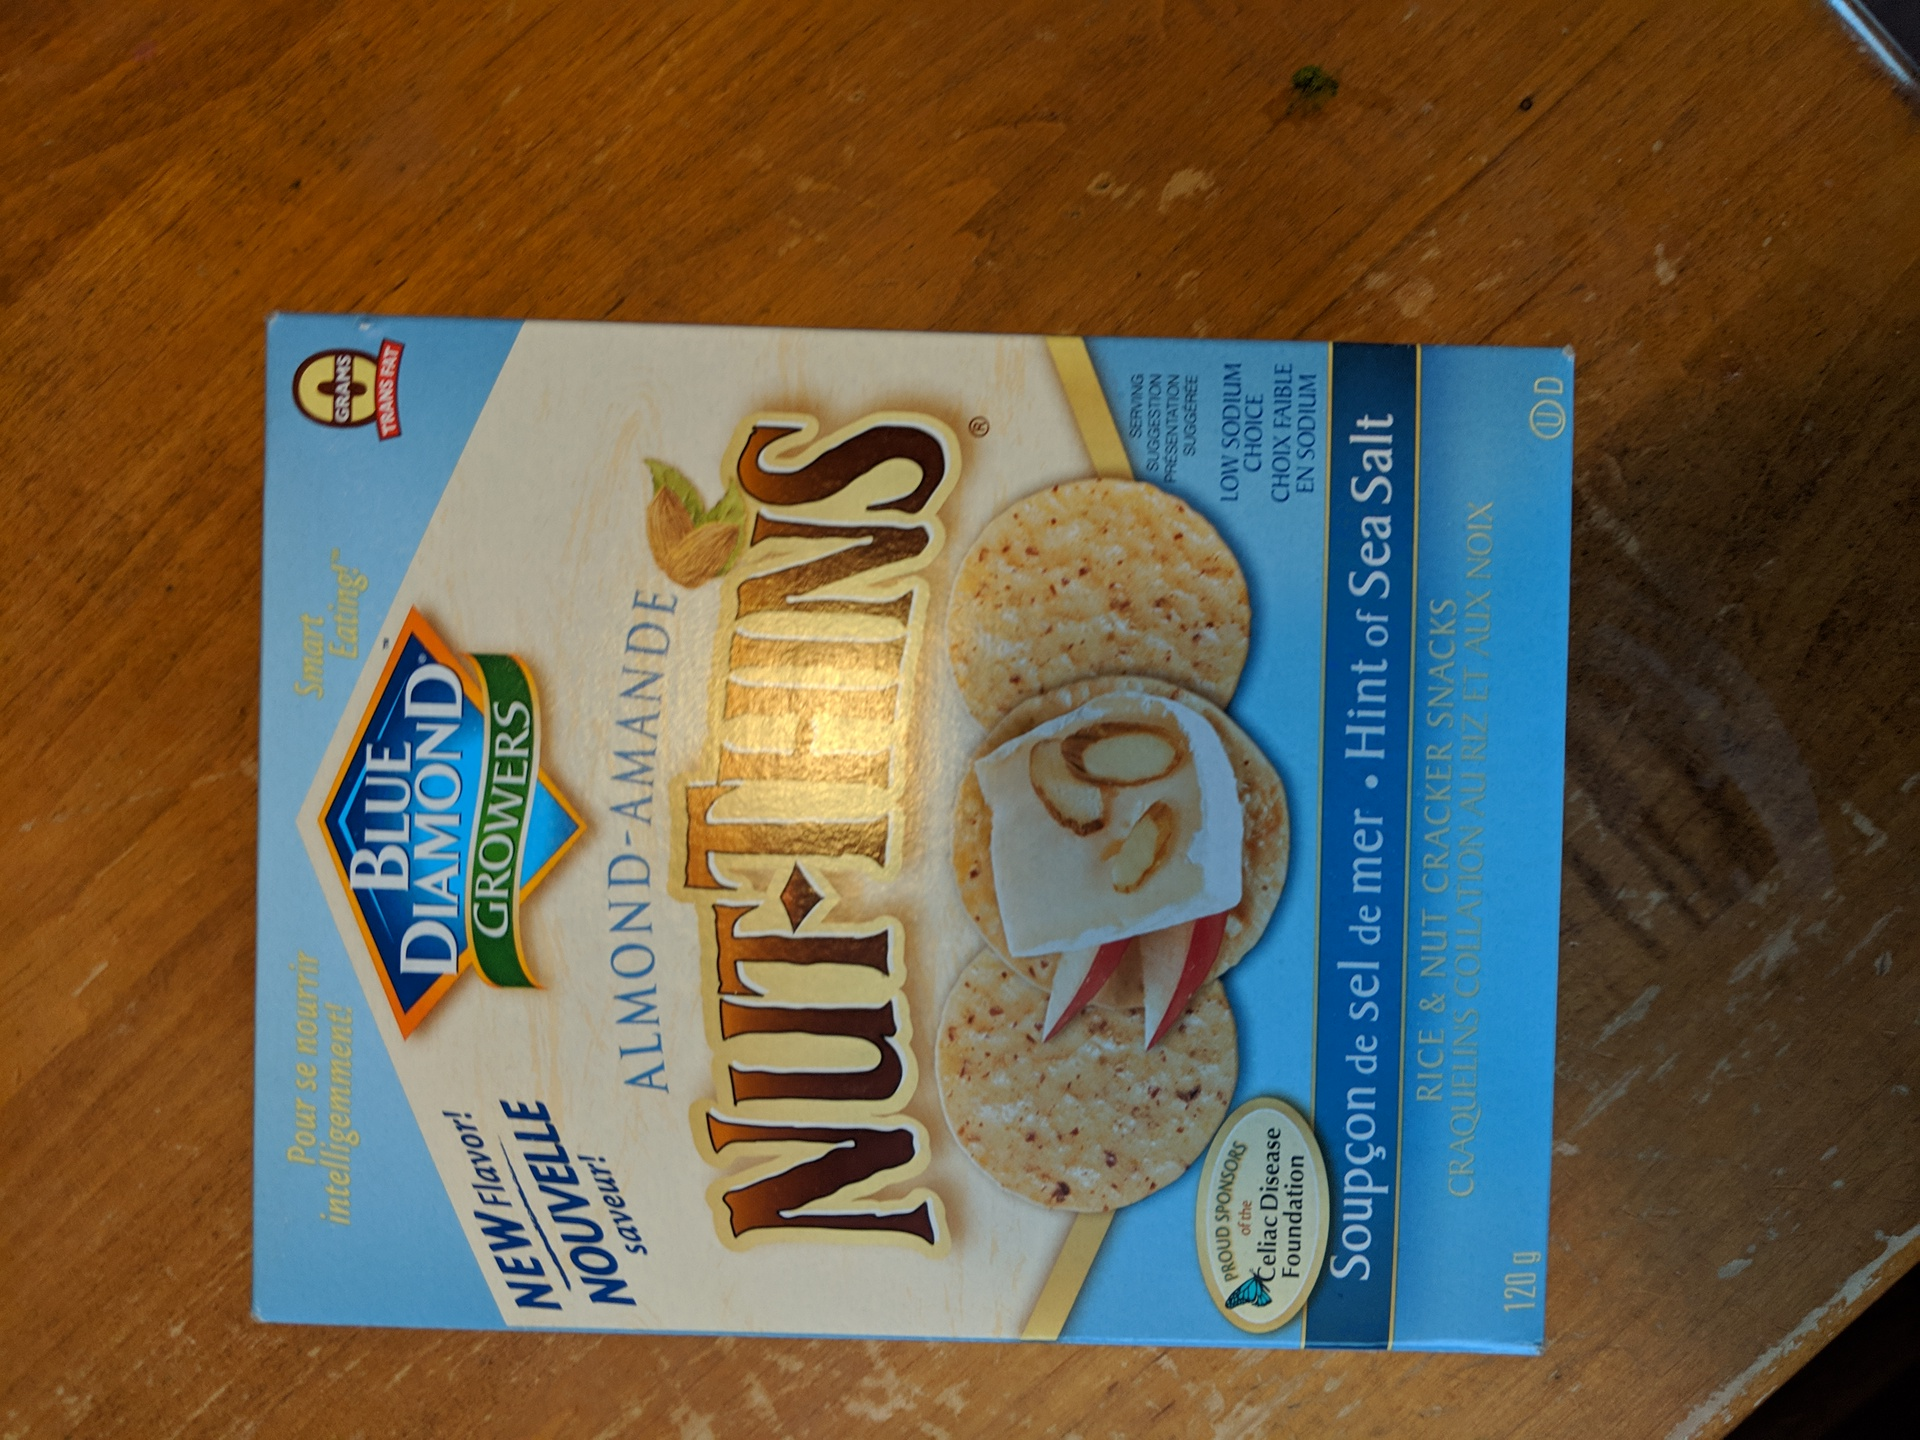blue_diamond_nut_thins_almond_seasalt: (259, 334, 1572, 1324)
